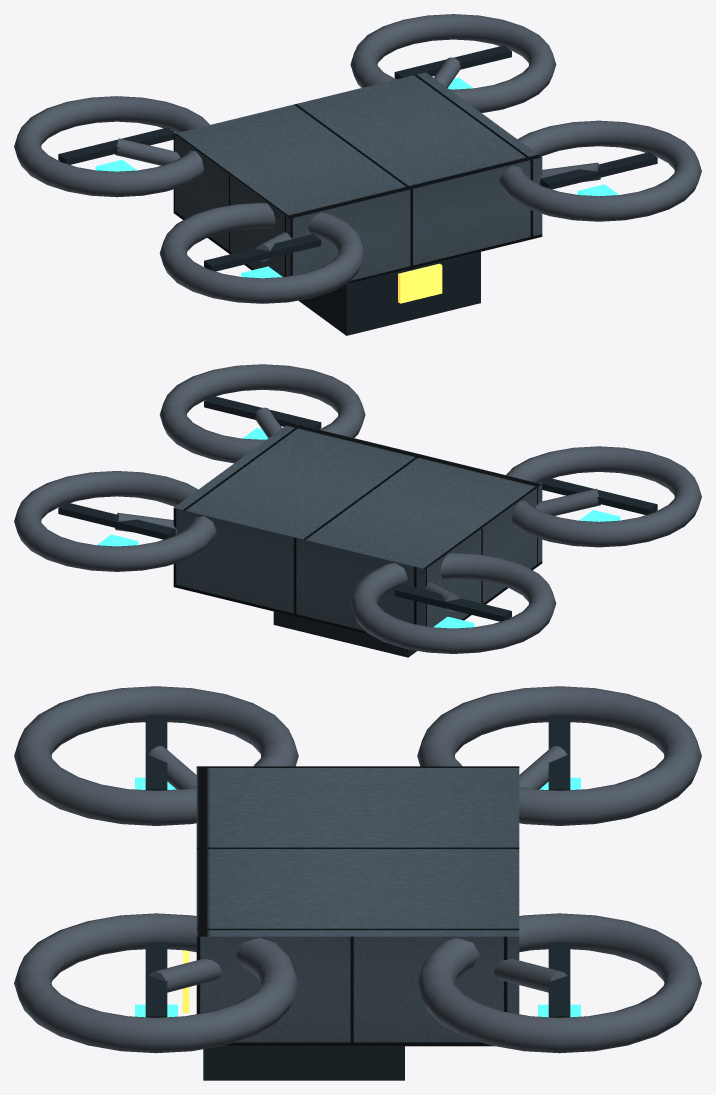
The model's file is courier-drone.glb.
The picture shows the model from 3 angles, top to bottom: view 1: azimuth 30°, elevation 25°; view 2: azimuth 150°, elevation 25°; view 3: azimuth 270°, elevation 25°; orthographic projection. The views are drawn at different scales.
Parts seen in each view (by area): view 1: courier-drone; view 2: courier-drone; view 3: courier-drone.
Boxes of the visible parts, x1=… form: courier-drone: x1=14, y1=14, x2=701, y2=335; courier-drone: x1=14, y1=364, x2=701, y2=657; courier-drone: x1=14, y1=686, x2=701, y2=1080.
Size of the model in its own units: 3.06 by 0.755 by 2.56.
Materials: 5 (1 with a texture image).
